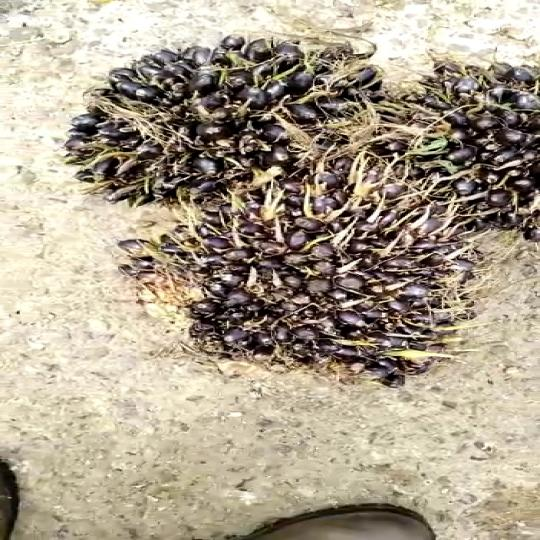mentah: (148, 184, 492, 410), (74, 26, 409, 205)
